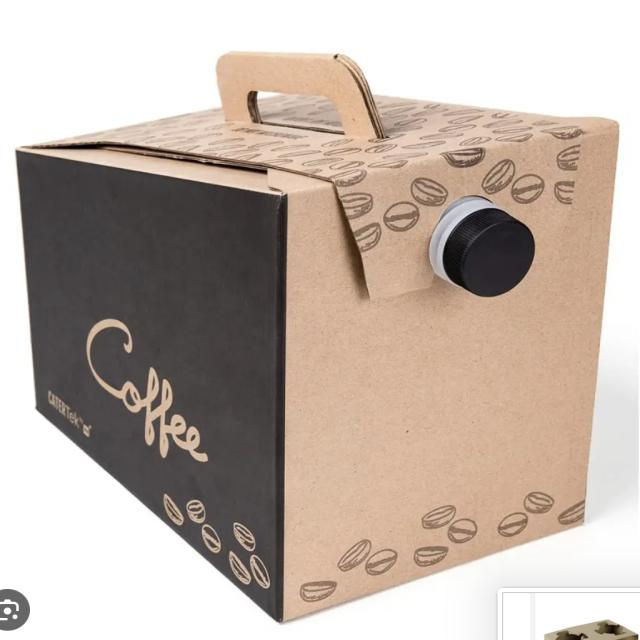biodegradable: (16, 39, 619, 622)
